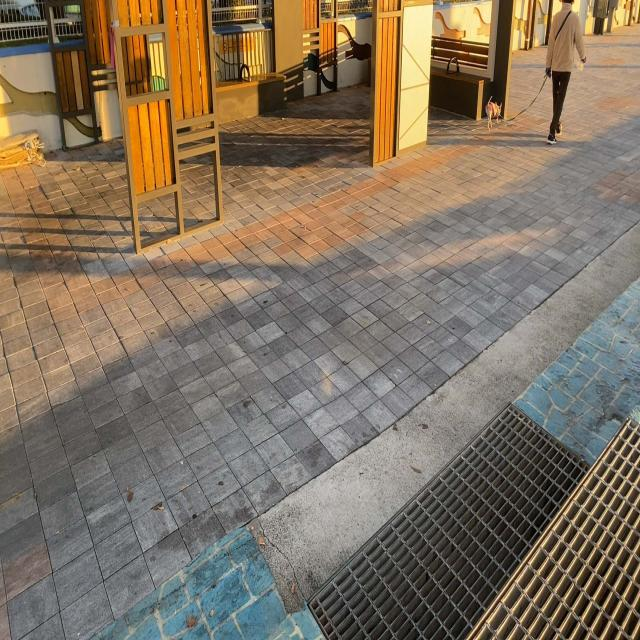Leashed_Dog: (486, 69, 562, 131)
